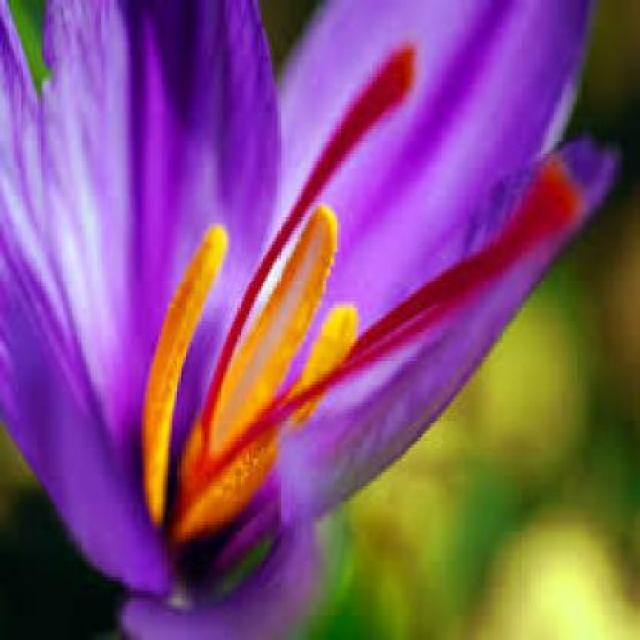Flower: (0, 0, 622, 640)
stigma: (370, 154, 586, 340), (270, 36, 424, 196), (347, 128, 351, 136)
